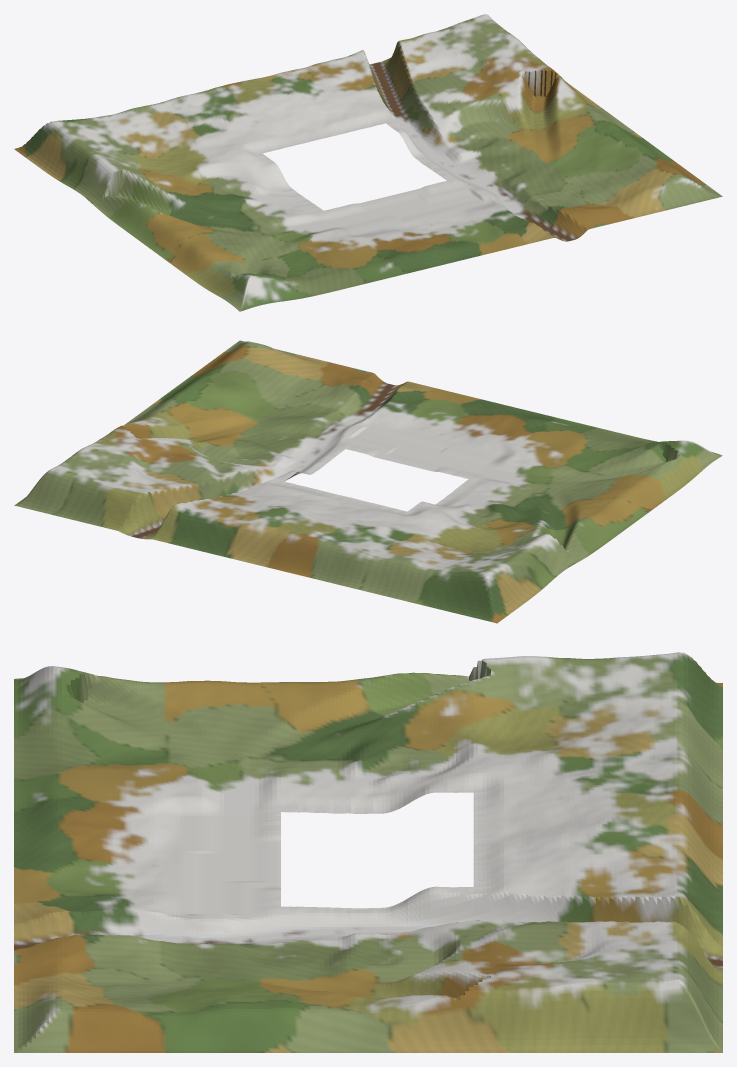
The model's file is terrain.glb.
The picture shows the model from 3 angles, top to bottom: view 1: azimuth 30°, elevation 25°; view 2: azimuth 150°, elevation 25°; view 3: azimuth 270°, elevation 25°; orthographic projection. The views are drawn at different scales.
Visible parts, largest first — view 1: Terrain.001; view 2: Terrain.001; view 3: Terrain.001.
Part boxes in pixels (<box>): Terrain.001: <box>14,14,722,311</box>; Terrain.001: <box>14,340,722,623</box>; Terrain.001: <box>14,652,722,1052</box>.
Size of the model in its own units: 320 by 25.7 by 259.
